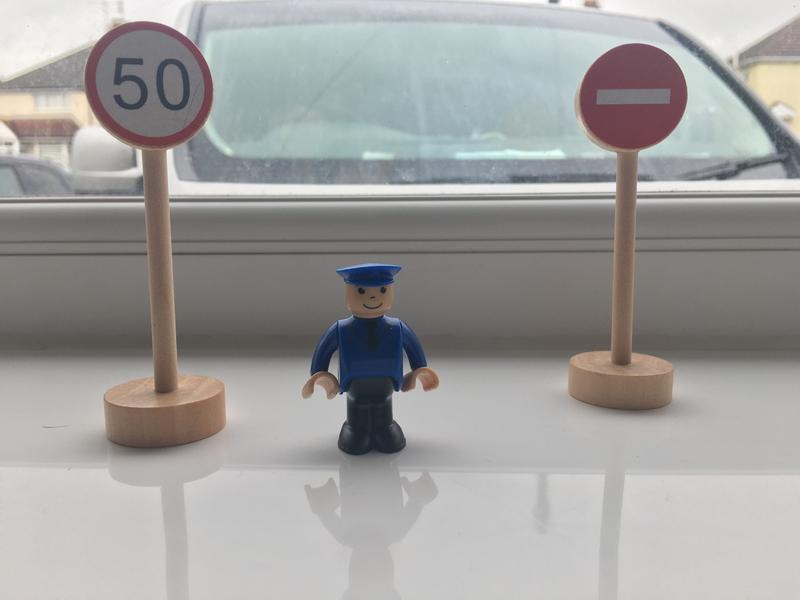Traffic_Sign_50: (86, 23, 213, 147)
Traffic_Sign_No_Entry: (579, 44, 686, 151)
person: (302, 262, 441, 461)
